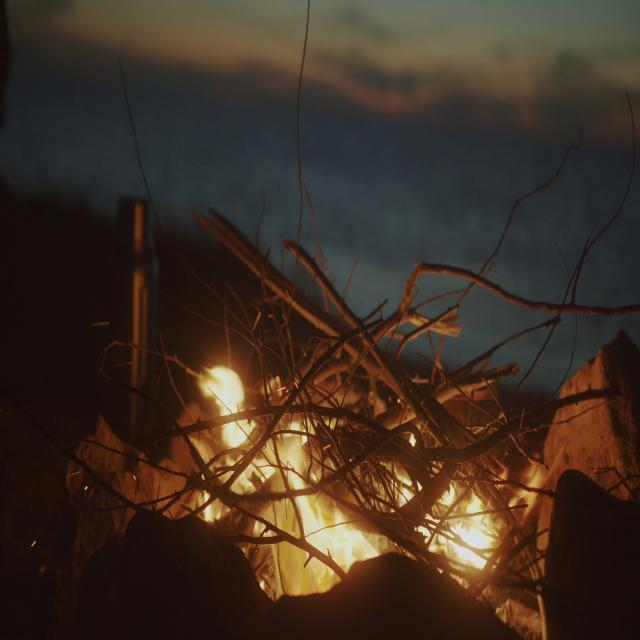Fire: (195, 340, 502, 610)
